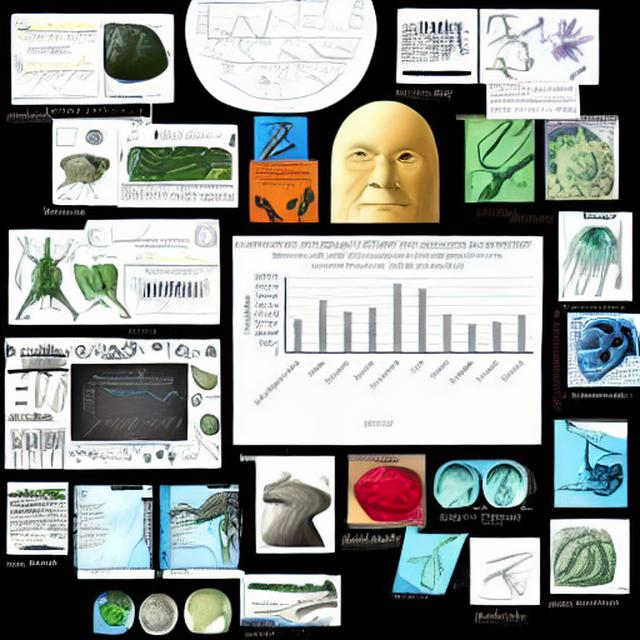Graph: (234, 250, 539, 428), (78, 376, 188, 441), (192, 1, 276, 51), (12, 43, 96, 93), (129, 270, 200, 311)
